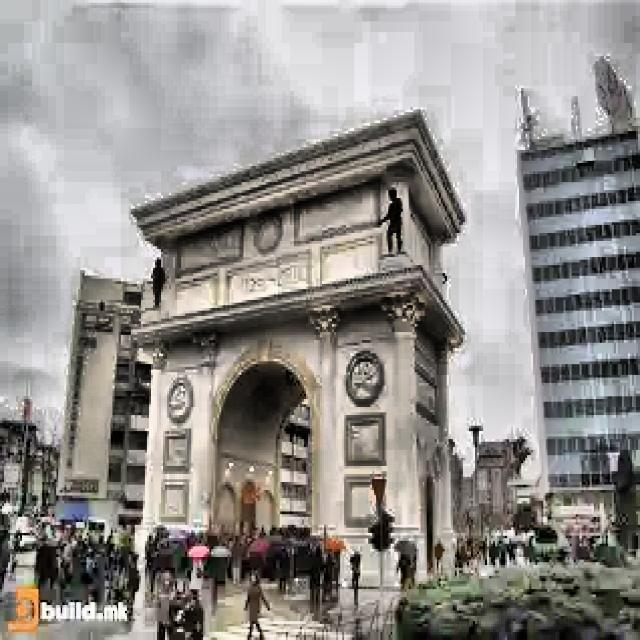triumphal arch: (123, 109, 437, 586)
